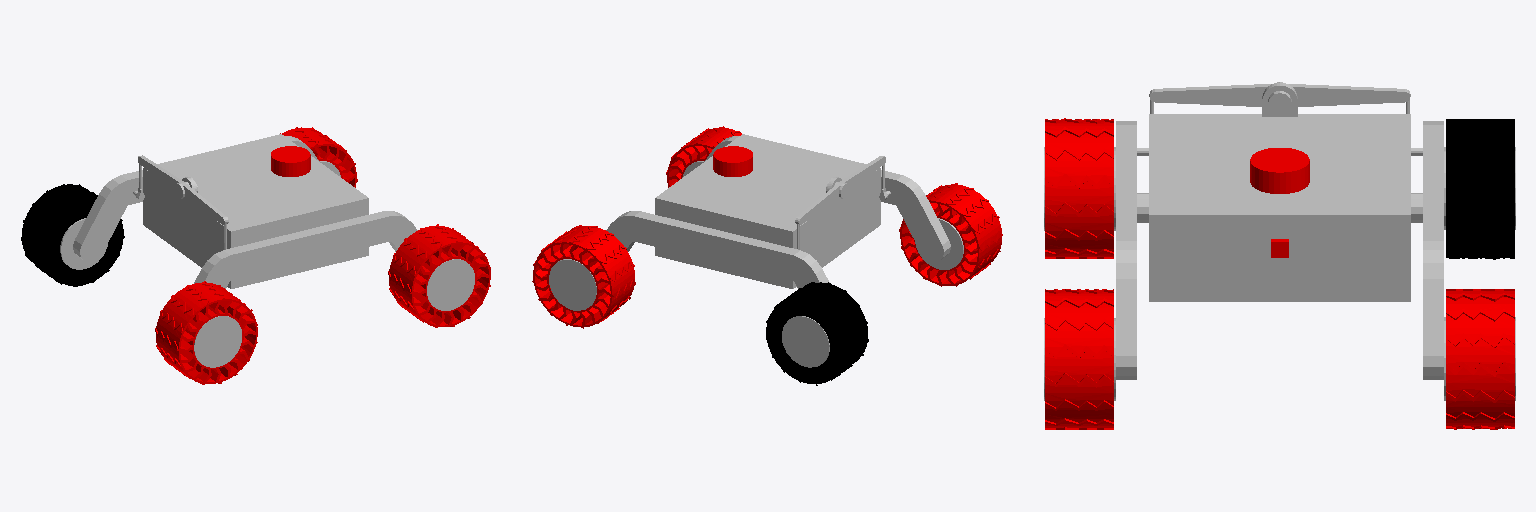
robot.urdf — cengaver_rover:
<?xml version="1.0" ?>
<!-- =================================================================================== -->
<!-- |    This document was autogenerated by xacro from cengaver.urdf.xacro            | -->
<!-- |    EDITING THIS FILE BY HAND IS NOT RECOMMENDED                                 | -->
<!-- =================================================================================== -->
<robot name="cengaver_rover">
  <!-- MATERIALS -->
  <material name="chassis_material">
    <color rgba="0.8 0.8 0.8 1"/>
    <specular rgba="0.5 0.5 0.5 1"/>
  </material>
  <material name="red_wheel_material">
    <color rgba="1 0 0 1"/>
  </material>
  <material name="black_wheel_material">
    <color rgba="0 0 0 1"/>
  </material>
  <!-- BASE LINK -->
  <link name="base_link">
    </link>
  <joint name="chassis_joint" type="fixed">
    <parent link="base_link"/>
    <child link="chassis"/>
    <origin xyz="0 0 0.18"/>
  </joint>
  <link name="chassis">
    <visual>
      <origin rpy="0 0 1.5707963267948966" xyz="0 0 -0.18"/>
      <geometry>
        <mesh filename="package://cengaver_rover_description/meshes/base_link.STL"/>
      </geometry>
      <material name="chassis_material"/>
    </visual>
    <collision>
      <origin rpy="0 0 1.5707963267948966" xyz="0 0 -0.18"/>
      <geometry>
        <mesh filename="package://cengaver_rover_description/meshes/base_link.STL"/>
      </geometry>
    </collision>
    <inertial>
      <origin rpy="0 0 0" xyz="-7.52548912075213E-10 0.00133985465192443 0.215427058661404"/>
      <mass value="40.1379079681851"/>
      <inertia ixx="1.16900142531114" ixy="0.00108521345983988" ixz="0.133695257924101" iyy="1.25971045307986" iyz="-0.00509655633734715" izz="2.16268381145349"/>
    </inertial>
  </link>
  <gazebo reference="chassis">
    <material>PR2/Grey1   </material>
  </gazebo>
  <!-- FRONT LEFT WHEEL LINK -->
  <joint name="front_left_wheel_joint" type="continuous">
    <parent link="base_link"/>
    <child link="front_left_wheel"/>
    <origin rpy=" 0 -1.5708 -1.5708" xyz="0.3379 0.39398 0.11736"/>
    <axis xyz="0 0 1"/>
  </joint>
  <link name="front_left_wheel">
    <visual>
      <origin rpy="0 0 0" xyz="0 0 0"/>
      <geometry>
        <mesh filename="package://cengaver_rover_description/meshes/wheel1.STL"/>
      </geometry>
      <material name="red_wheel_material"/>
    </visual>
    <collision>
      <origin rpy="0 0 0" xyz="0 0 0"/>
      <geometry>
        <mesh filename="package://cengaver_rover_description/meshes/wheel1.STL"/>
      </geometry>
    </collision>
    <inertial>
      <origin rpy="0 0 0" xyz="0.000122612981227871 1.98732798040169E-06 -0.0576270454609041"/>
      <mass value="1.37210716126655"/>
      <inertia ixx="0.00789978615382761" ixy="6.69001163873593E-07" ixz="-1.06816776348498E-06" iyy="0.00786607684314157" iyz="-2.52943863764599E-08" izz="0.0127489505715837"/>
    </inertial>
  </link>
  <gazebo reference="front_left_wheel">
    <material>Gazebo/Red</material>
  </gazebo>
  <!-- FRONT RIGHT WHEEL LINK -->
  <joint name="front_right_wheel_joint" type="continuous">
    <parent link="base_link"/>
    <child link="front_right_wheel"/>
    <origin rpy=" 0 1.5708 -1.5708" xyz="0.3379 -0.39398 0.11736"/>
    <axis xyz="0 0 -1"/>
  </joint>
  <link name="front_right_wheel">
    <visual>
      <origin rpy="0 0 0" xyz="0 0 0"/>
      <geometry>
        <mesh filename="package://cengaver_rover_description/meshes/wheel1.STL"/>
      </geometry>
      <material name="red_wheel_material"/>
    </visual>
    <collision>
      <origin rpy="0 0 0" xyz="0 0 0"/>
      <geometry>
        <mesh filename="package://cengaver_rover_description/meshes/wheel1.STL"/>
      </geometry>
    </collision>
    <inertial>
      <origin rpy="0 0 0" xyz="0.000122612982376591 1.98732819672864E-06 -0.0576270454601775"/>
      <mass value="1.37210716127024"/>
      <inertia ixx="0.00789978615355147" ixy="6.69001094577587E-07" ixz="-1.06816769246315E-06" iyy="0.00786607684342405" iyz="-2.52943345351912E-08" izz="0.0127489505715955"/>
    </inertial>
  </link>
  <gazebo reference="front_right_wheel">
    <material>Gazebo/Red</material>
  </gazebo>
  <!-- BACK LEFT WHEEL LINK -->
  <joint name="back_left_wheel_joint" type="continuous">
    <parent link="base_link"/>
    <child link="back_left_wheel"/>
    <origin rpy=" 0 -1.5708 -1.5708" xyz="-0.3379 0.39398 0.11736"/>
    <axis xyz="0 0 1"/>
  </joint>
  <link name="back_left_wheel">
    <visual>
      <origin rpy="0 0 0" xyz="0 0 0"/>
      <geometry>
        <mesh filename="package://cengaver_rover_description/meshes/wheel1.STL"/>
      </geometry>
      <material name="black_wheel_material"/>
    </visual>
    <collision>
      <origin rpy="0 0 0" xyz="0 0 0"/>
      <geometry>
        <mesh filename="package://cengaver_rover_description/meshes/wheel1.STL"/>
      </geometry>
    </collision>
    <inertial>
      <origin rpy="0 0 0" xyz="0.000122612982376979 1.98732819572944E-06 -0.0576270454601775"/>
      <mass value="1.37210716127023"/>
      <inertia ixx="0.00789978615355137" ixy="-6.69001094576813E-07" ixz="1.06816769245835E-06" iyy="0.00786607684342403" iyz="-2.52943345498765E-08" izz="0.0127489505715954"/>
    </inertial>
  </link>
  <gazebo reference="back_left_wheel">
    <material>Gazebo/Black</material>
  </gazebo>
  <!-- BACK RIGHT WHEEL LINK -->
  <joint name="back_right_wheel_joint" type="continuous">
    <parent link="base_link"/>
    <child link="back_right_wheel"/>
    <origin rpy=" 0 1.5708 -1.5708" xyz="-0.3379 -0.39398 0.11736"/>
    <axis xyz="0 0 -1"/>
  </joint>
  <link name="back_right_wheel">
    <visual>
      <origin rpy="0 0 0" xyz="0 0 0"/>
      <geometry>
        <mesh filename="package://cengaver_rover_description/meshes/wheel1.STL"/>
      </geometry>
      <material name="red_wheel_material"/>
    </visual>
    <collision>
      <origin rpy="0 0 0" xyz="0 0 0"/>
      <geometry>
        <mesh filename="package://cengaver_rover_description/meshes/wheel1.STL"/>
      </geometry>
    </collision>
    <inertial>
      <origin rpy="0 0 0" xyz="0.000122612982376147 1.98732819589598E-06 -0.0576270454601775"/>
      <mass value="1.37210716127023"/>
      <inertia ixx="0.00789978615355138" ixy="6.69001094539057E-07" ixz="-1.06816769244459E-06" iyy="0.007866076843424" iyz="-2.52943345308376E-08" izz="0.0127489505715954"/>
    </inertial>
  </link>
  <gazebo reference="back_right_wheel">
    <material>Gazebo/Red</material>
  </gazebo>
  <gazebo reference="front_left_wheel">
    <mu1 value="0.2"/>
    <mu2 value="0.2"/>
  </gazebo>
  <gazebo reference="front_right_wheel">
    <mu1 value="0.2"/>
    <mu2 value="0.2"/>
  </gazebo>
  <gazebo reference="back_left_wheel">
    <mu1 value="0.2"/>
    <mu2 value="0.2"/>
  </gazebo>
  <gazebo reference="back_right_wheel">
    <mu1 value="0.2"/>
    <mu2 value="0.2"/>
  </gazebo>
  <gazebo>
    <plugin filename="libgazebo_ros_diff_drive.so" name="differential_drive_controller_front">
      <left_joint>front_left_wheel_joint</left_joint>
      <right_joint>front_right_wheel_joint</right_joint>
      <wheel_separation>0.78796</wheel_separation>
      <wheel_diameter>0.23472</wheel_diameter>
      <!-- Output -->
      <odometry_frame>odom</odometry_frame>
      <robot_base_frame>base_link</robot_base_frame>
      <publish_odom>true</publish_odom>
      <publish_odom_tf>true</publish_odom_tf>
      <publish_wheel_tf>true</publish_wheel_tf>
    </plugin>
  </gazebo>
  <gazebo>
    <plugin filename="libgazebo_ros_diff_drive.so" name="differential_drive_controller_back">
      <left_joint>back_left_wheel_joint</left_joint>
      <right_joint>back_right_wheel_joint</right_joint>
      <wheel_separation>0.78796</wheel_separation>
      <wheel_diameter>0.23472</wheel_diameter>
      <!-- Output -->
      <odometry_frame>odom</odometry_frame>
      <robot_base_frame>base_link</robot_base_frame>
      <publish_odom>false</publish_odom>
      <publish_odom_tf>true</publish_odom_tf>
      <publish_wheel_tf>true</publish_wheel_tf>
    </plugin>
  </gazebo>
  <material name="red_laser">
    <color rgba="1 0 0 1"/>
  </material>
  <joint name="laser_joint" type="fixed">
    <parent link="chassis"/>
    <child link="laser_frame"/>
    <origin rpy="0 0 3.141592653589793" xyz="0.1 0 0.175"/>
  </joint>
  <link name="laser_frame">
    <visual>
      <geometry>
        <cylinder length="0.04" radius="0.05"/>
      </geometry>
      <material name="red_laser"/>
    </visual>
    <collision>
      <geometry>
        <cylinder length="0.04" radius="0.05"/>
      </geometry>
    </collision>
  </link>
  <gazebo reference="laser_frame">
    <material>Gazebo/Red</material>
    <sensor name="laser" type="ray">
      <pose> 0 0 0 0 0 0 </pose>
      <visualize>true</visualize>
      <update_rate>10</update_rate>
      <ray>
        <scan>
          <horizontal>
            <samples>360</samples>
            <min_angle>-3.14</min_angle>
            <max_angle>3.14</max_angle>
          </horizontal>
        </scan>
        <range>
          <min>0.15</min>
          <max>6</max>
        </range>
      </ray>
      <plugin filename="libgazebo_ros_ray_sensor.so" name="laser_controller">
        <ros>
          <argument>~/out:=scan</argument>
        </ros>
        <output_type>sensor_msgs/LaserScan</output_type>
        <frame_name>laser_frame</frame_name>
      </plugin>
    </sensor>
  </gazebo>
  <material name="red_camera">
    <color rgba="1 0 0 1"/>
  </material>
  <joint name="camera_joint" type="fixed">
    <parent link="chassis"/>
    <child link="camera_link"/>
    <origin rpy="0 0 0" xyz="0.205 0 0.08"/>
  </joint>
  <link name="camera_link">
    <visual>
      <geometry>
        <box size="0.010 0.03 0.03"/>
      </geometry>
      <material name="red_camera"/>
    </visual>
  </link>
  <joint name="camera_optical_joint" type="fixed">
    <parent link="camera_link"/>
    <child link="camera_link_optical"/>
    <origin rpy="-1.5707963267948966 0 -1.5707963267948966" xyz="0 0 0"/>
  </joint>
  <link name="camera_link_optical"/>
  <gazebo reference="camera_link">
    <material>Gazebo/Red</material>
    <sensor name="camera" type="camera">
      <pose> 0 0 0 0 0 0 </pose>
      <visualize>true</visualize>
      <update_rate>10</update_rate>
      <camera>
        <horizontal_fov>1.089</horizontal_fov>
        <image>
          <format>R8G8B8</format>
          <width>640</width>
          <height>480</height>
        </image>
        <clip>
          <near>0.05</near>
          <far>8.0</far>
        </clip>
      </camera>
      <plugin filename="libgazebo_ros_camera.so" name="camera_controller">
        <frame_name>camera_link_optical</frame_name>
      </plugin>
    </sensor>
  </gazebo>
</robot>

--- Facts derived from the render (not from the file) ---
Views: 3 orthographic renders of the robot side by side, from view 1: azimuth 30°, elevation 25°; view 2: azimuth 150°, elevation 25°; view 3: azimuth 270°, elevation 25°.
Robot: cengaver_rover — 9 links, 8 joints (4 continuous, 4 fixed); root link base_link; default pose: all joints at 0.
Visible links, largest first — view 1: chassis, front_right_wheel, back_right_wheel, back_left_wheel, front_left_wheel, laser_frame; view 2: chassis, front_left_wheel, back_left_wheel, back_right_wheel, front_right_wheel, laser_frame; view 3: chassis, front_right_wheel, front_left_wheel, back_right_wheel, back_left_wheel, laser_frame.
Boxes of the visible links, box(x1,y1,x2,y2) form: chassis: box(60, 134, 474, 367); front_right_wheel: box(388, 224, 490, 327); back_right_wheel: box(155, 281, 257, 384); back_left_wheel: box(21, 184, 124, 286); front_left_wheel: box(280, 127, 357, 187); laser_frame: box(271, 146, 310, 176); chassis: box(549, 134, 963, 367); front_left_wheel: box(532, 225, 635, 328); back_left_wheel: box(766, 282, 868, 385); back_right_wheel: box(899, 183, 1002, 286); front_right_wheel: box(666, 126, 741, 187); laser_frame: box(713, 146, 752, 176); chassis: box(1044, 82, 1515, 400); front_right_wheel: box(1045, 289, 1113, 429); front_left_wheel: box(1446, 289, 1514, 429); back_right_wheel: box(1045, 118, 1113, 258); back_left_wheel: box(1446, 119, 1514, 259); laser_frame: box(1250, 148, 1309, 193).
Bounding box of the posed robot: 0.9132 × 0.79 × 0.3801 m (x, y, z).
5 mesh visuals loaded from 2 distinct referenced files (2 binary STL).
